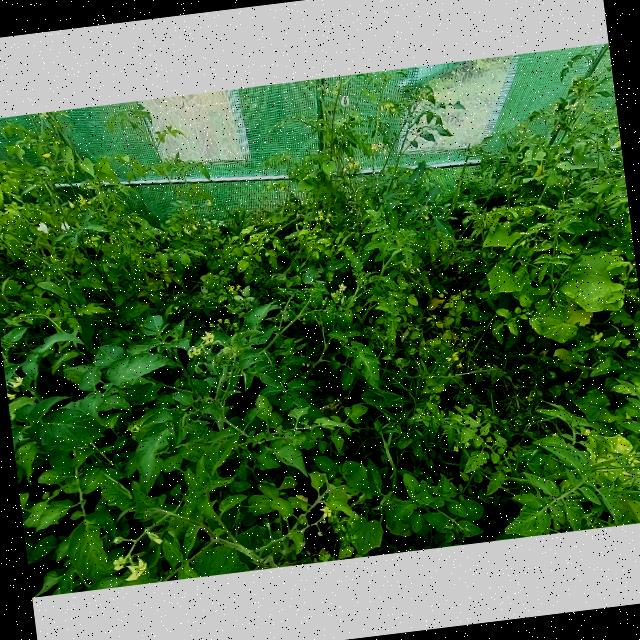Flowers: (112, 554, 148, 582), (318, 506, 332, 520), (9, 375, 23, 388), (188, 346, 202, 359), (201, 332, 214, 344), (76, 193, 85, 206), (8, 392, 18, 401), (338, 282, 347, 290), (410, 266, 419, 274), (347, 161, 359, 167), (451, 352, 458, 362), (40, 152, 51, 158), (204, 199, 212, 207), (376, 140, 384, 148), (451, 444, 458, 453), (317, 210, 323, 220), (384, 102, 394, 108), (369, 142, 376, 150), (172, 306, 180, 313), (324, 85, 330, 94), (235, 283, 242, 290), (456, 362, 464, 368), (216, 317, 222, 323), (331, 291, 337, 297), (294, 212, 300, 218), (382, 148, 388, 154), (552, 105, 558, 111), (463, 441, 469, 447), (333, 88, 338, 95), (232, 322, 238, 327), (229, 284, 234, 290), (324, 218, 330, 223), (564, 104, 570, 109), (335, 80, 340, 86), (402, 261, 406, 268), (445, 356, 450, 361), (168, 310, 172, 316), (209, 323, 213, 328), (54, 140, 59, 144), (390, 108, 396, 111), (224, 318, 228, 322), (574, 102, 578, 106), (140, 324, 144, 328), (314, 218, 317, 220), (328, 212, 330, 215)
